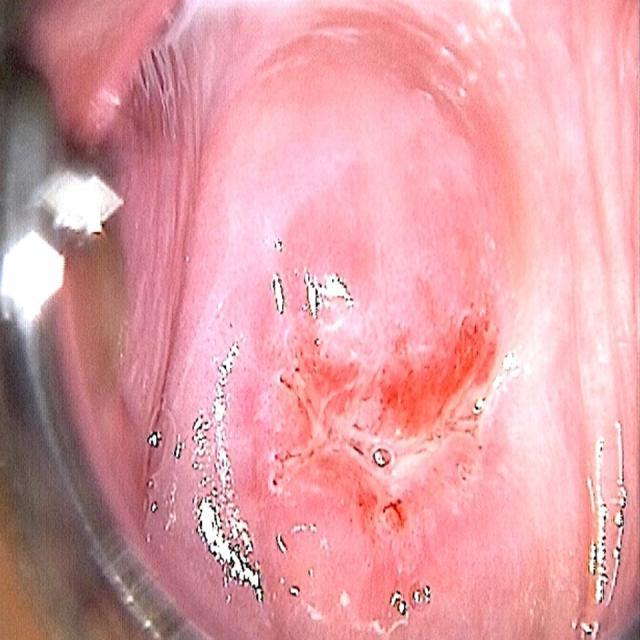cervical_lesion: (140, 251, 529, 640)
